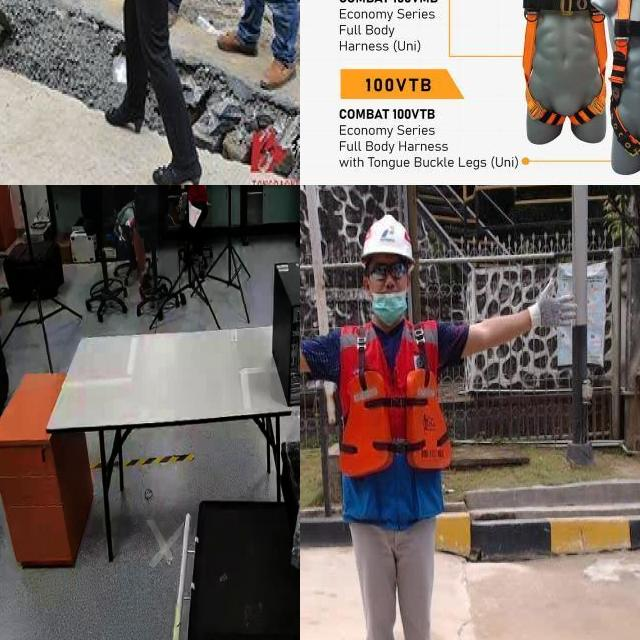Harness: (523, 0, 607, 126), (611, 0, 640, 160), (587, 88, 604, 114)
head_helmet: (361, 215, 415, 267)
person: (300, 200, 588, 640), (102, 185, 158, 303), (177, 185, 212, 268)
vest: (338, 320, 451, 521)
